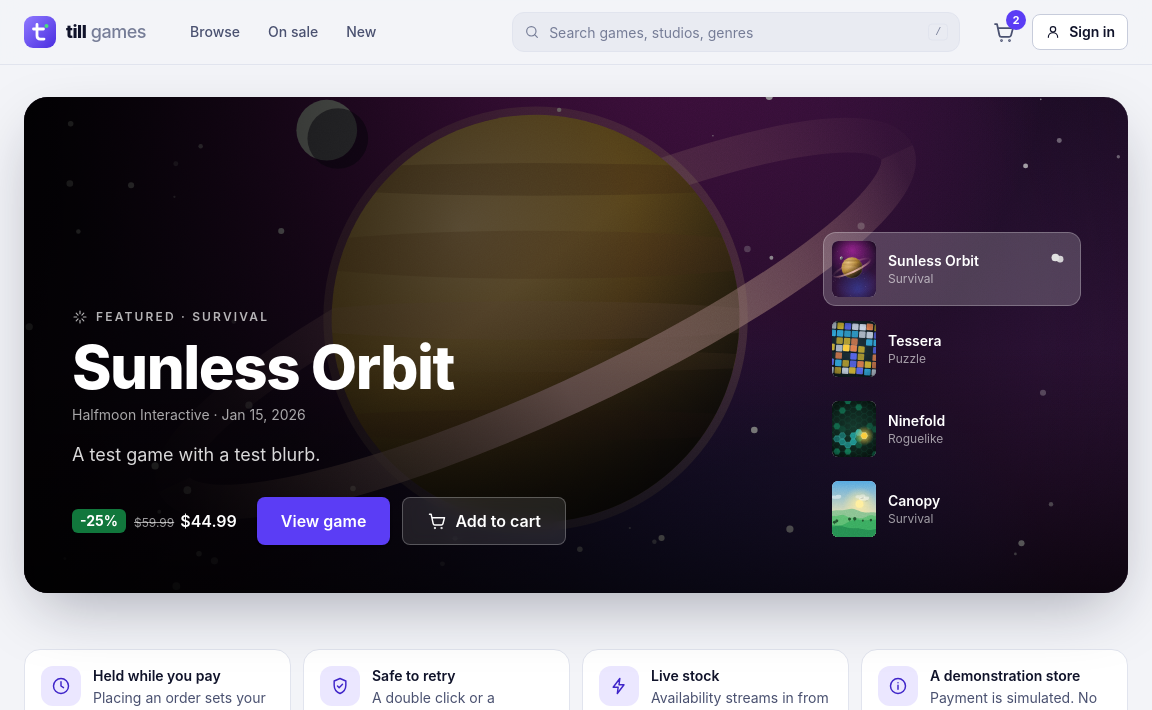
Test: the frame around every page › opens the cart from the header, with what is in it
The width and height of the screenshot is (1152, 710).
Click the button named "Cart, 2 items". click: (1004, 32)
box: [984,12,1024,52]
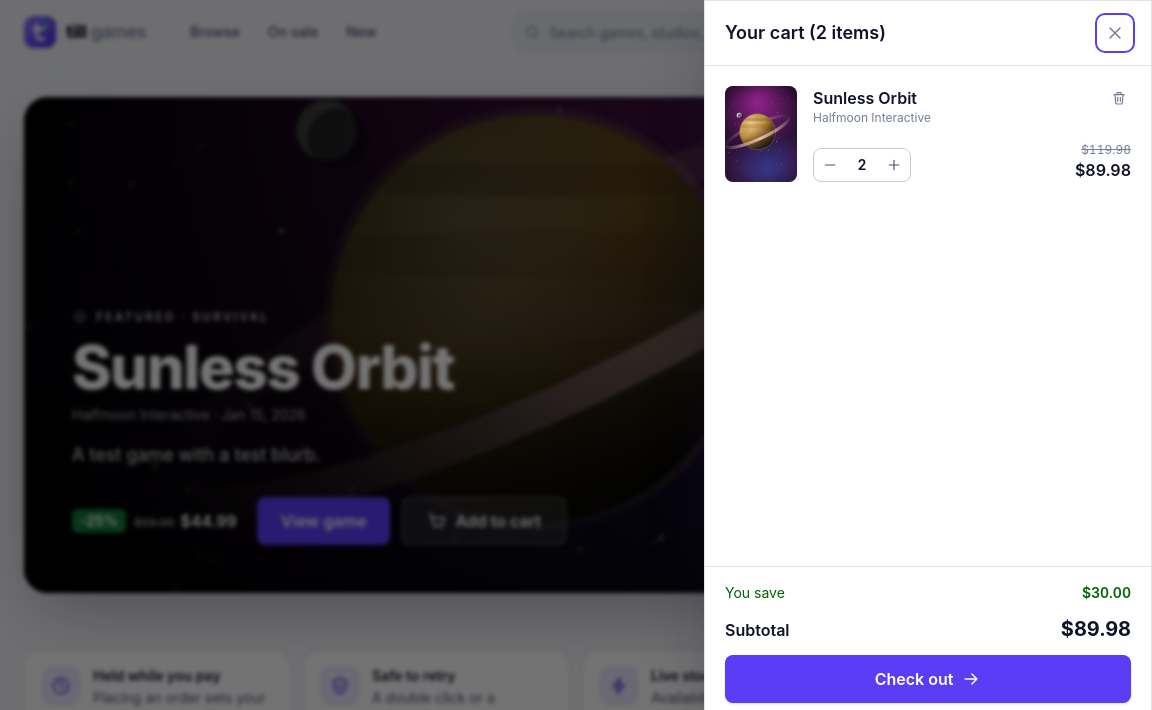
Expected: the dialog "Your cart (2 items)" shows "Sunless Orbit", [813,86,931,110]
Expected: the dialog "Your cart (2 items)" shows "$89.98", [1075,160,1131,180]
